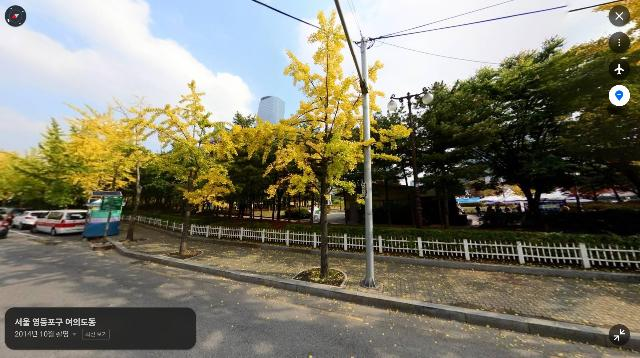ginkgo: (234, 9, 414, 281), (122, 80, 275, 257), (56, 97, 177, 243), (0, 117, 95, 209)
other: (430, 33, 640, 233), (239, 142, 313, 223)
